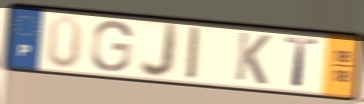0: (45, 13, 85, 70)
G: (89, 19, 134, 73)
I: (185, 24, 203, 82)
J: (138, 20, 181, 81)
K: (233, 30, 273, 87)
T: (283, 36, 321, 89)
